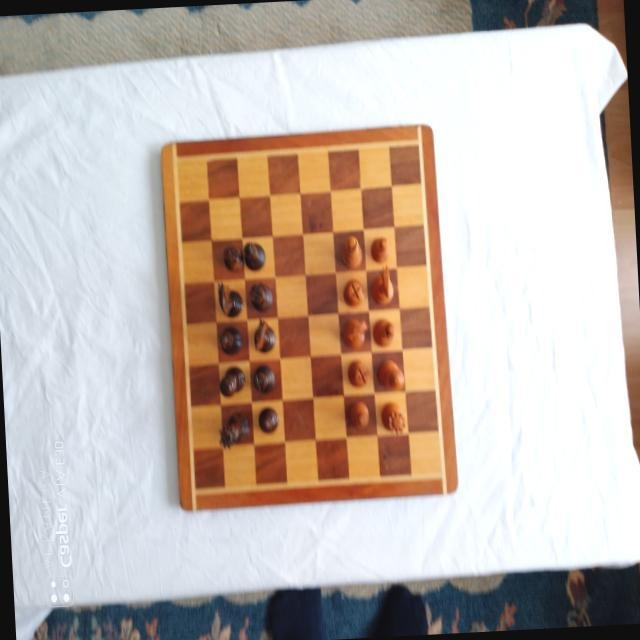black-bishop: (217, 326, 242, 354), (242, 241, 265, 271)
black-king: (218, 365, 246, 397)
black-knight: (217, 280, 243, 318), (252, 317, 276, 354)
black-pawn: (257, 406, 278, 433), (221, 244, 242, 271)
black-queen: (217, 411, 251, 450)
black-rook: (249, 281, 274, 312), (252, 363, 276, 394)
white-bishop: (340, 234, 364, 270), (372, 318, 396, 346)
white-king: (378, 358, 406, 391)
white-knight: (369, 265, 395, 307), (341, 316, 371, 350)
white-pawn: (348, 400, 372, 431), (369, 236, 390, 264)
white-queen: (380, 402, 407, 435)
white-rook: (342, 277, 365, 306), (346, 359, 369, 386)
